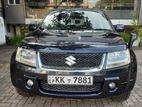car: (9, 7, 137, 102)
